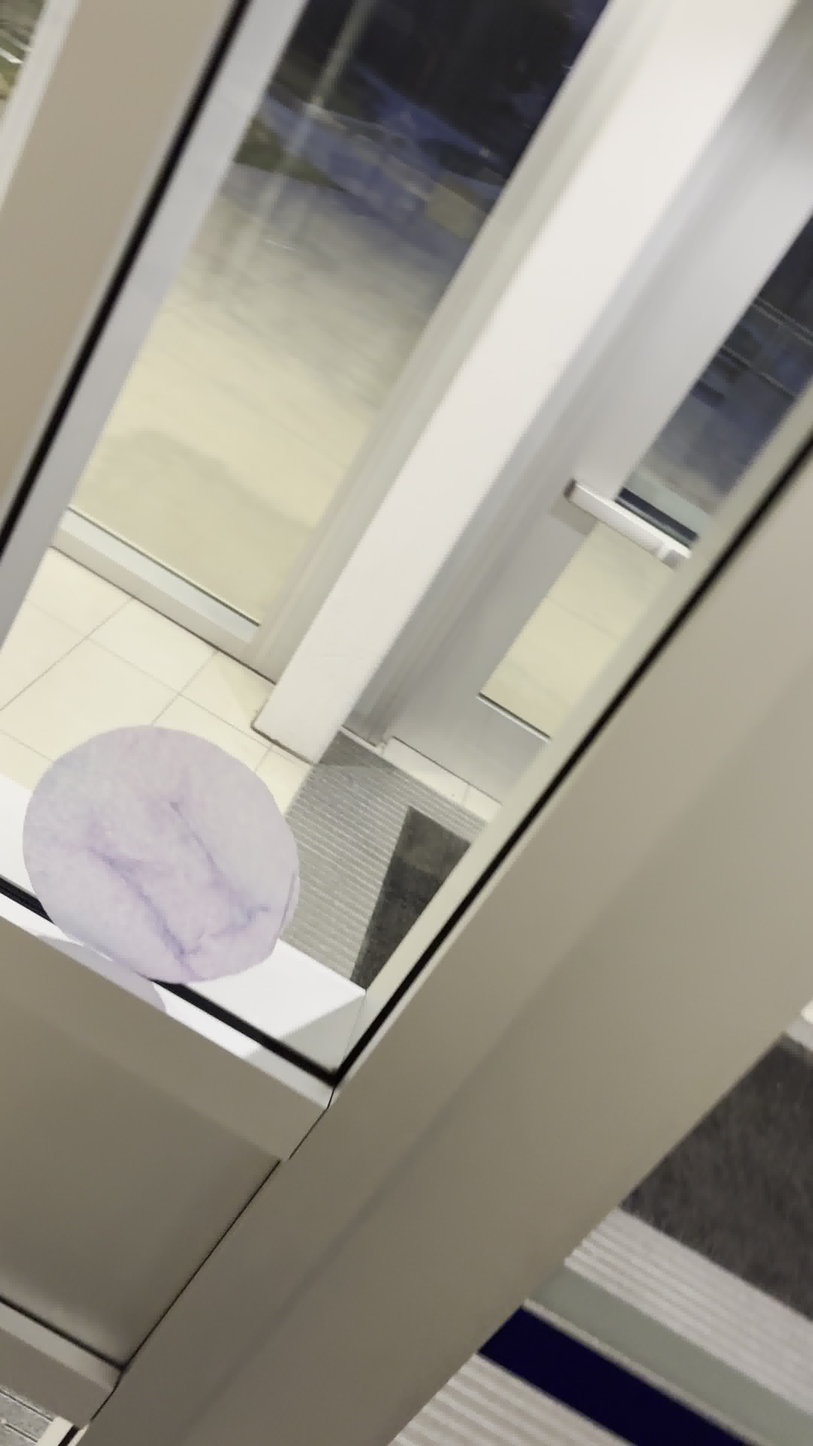Target: (19, 723, 302, 987)
